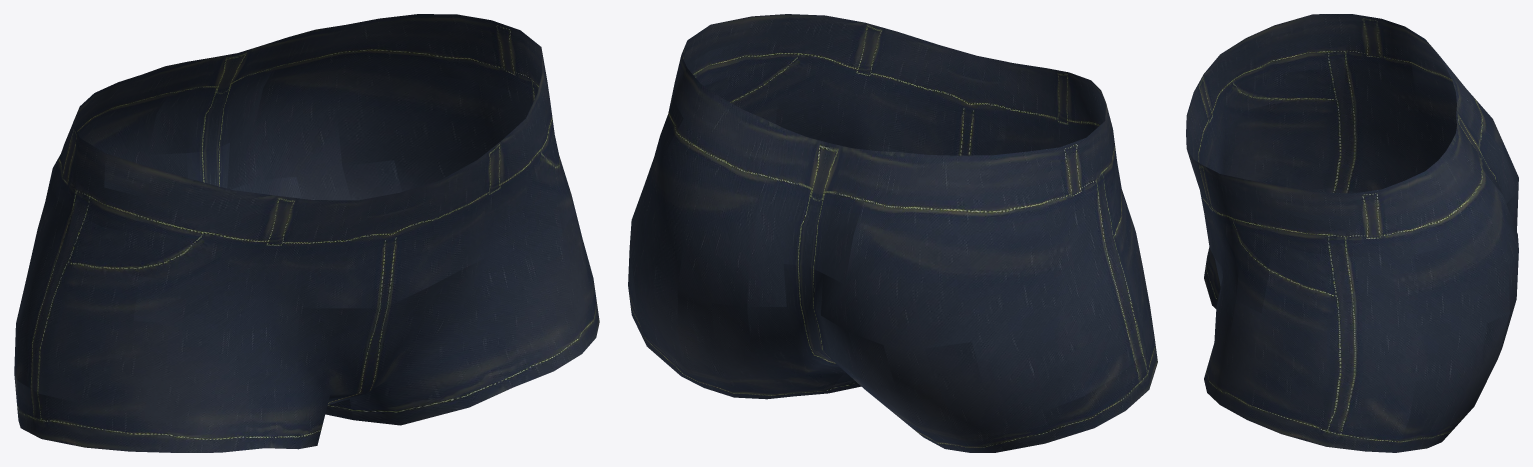
The model's file is cortu-jeans-shorts.glb.
3 renders of one model, left to right at view 1: azimuth 30°, elevation 25°; view 2: azimuth 150°, elevation 25°; view 3: azimuth 270°, elevation 25°, orthographic. The views are drawn at different scales.
Visible parts, largest first — view 1: jeans shorts; view 2: jeans shorts; view 3: jeans shorts.
Boxes of the visible parts, x1,y1,x2,y2 form: jeans shorts: (14, 14, 599, 452); jeans shorts: (628, 14, 1157, 452); jeans shorts: (1186, 14, 1518, 452).
Size of the model in its own units: 37.59 by 21.72 by 23.64.
Materials: 1 (1 with a texture image).
